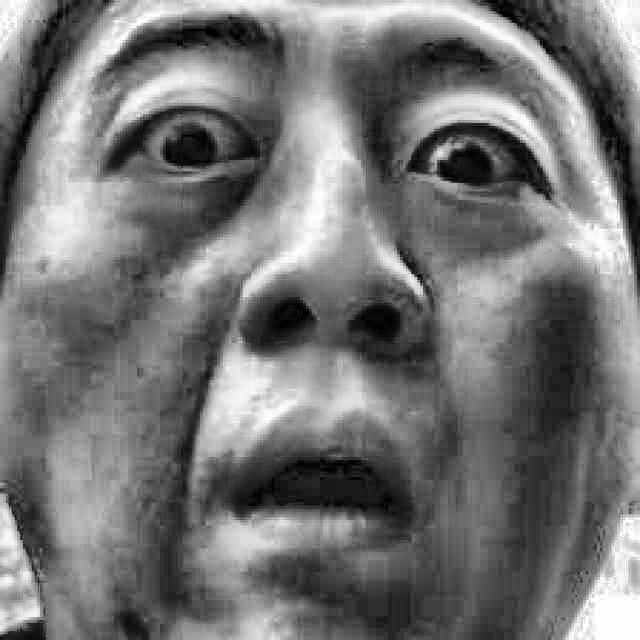fear: (94, 21, 586, 571)
